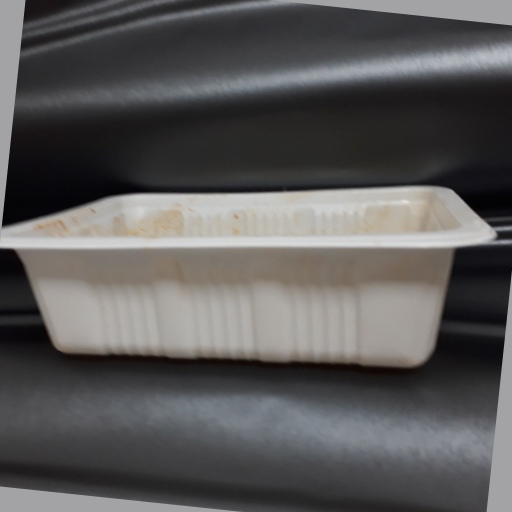Plastic_4: (3, 181, 499, 371)
